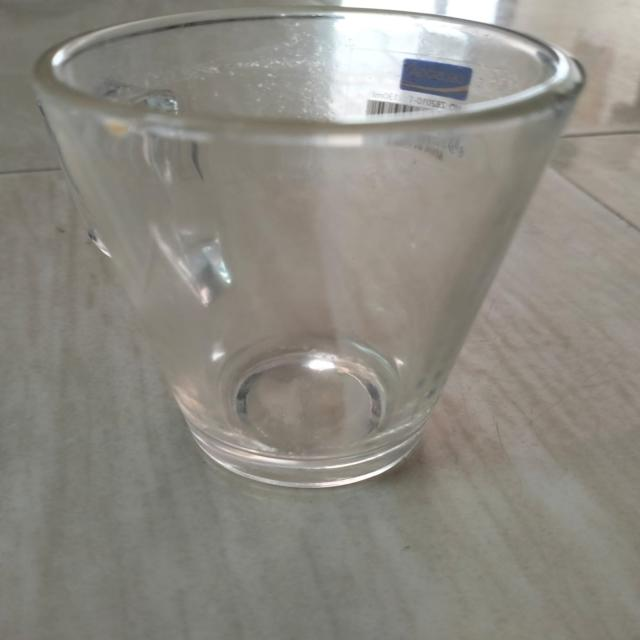glass-VX4N: (34, 5, 586, 490)
